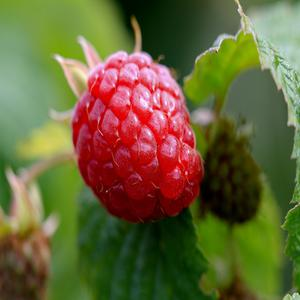raspb: (44, 38, 217, 222)
